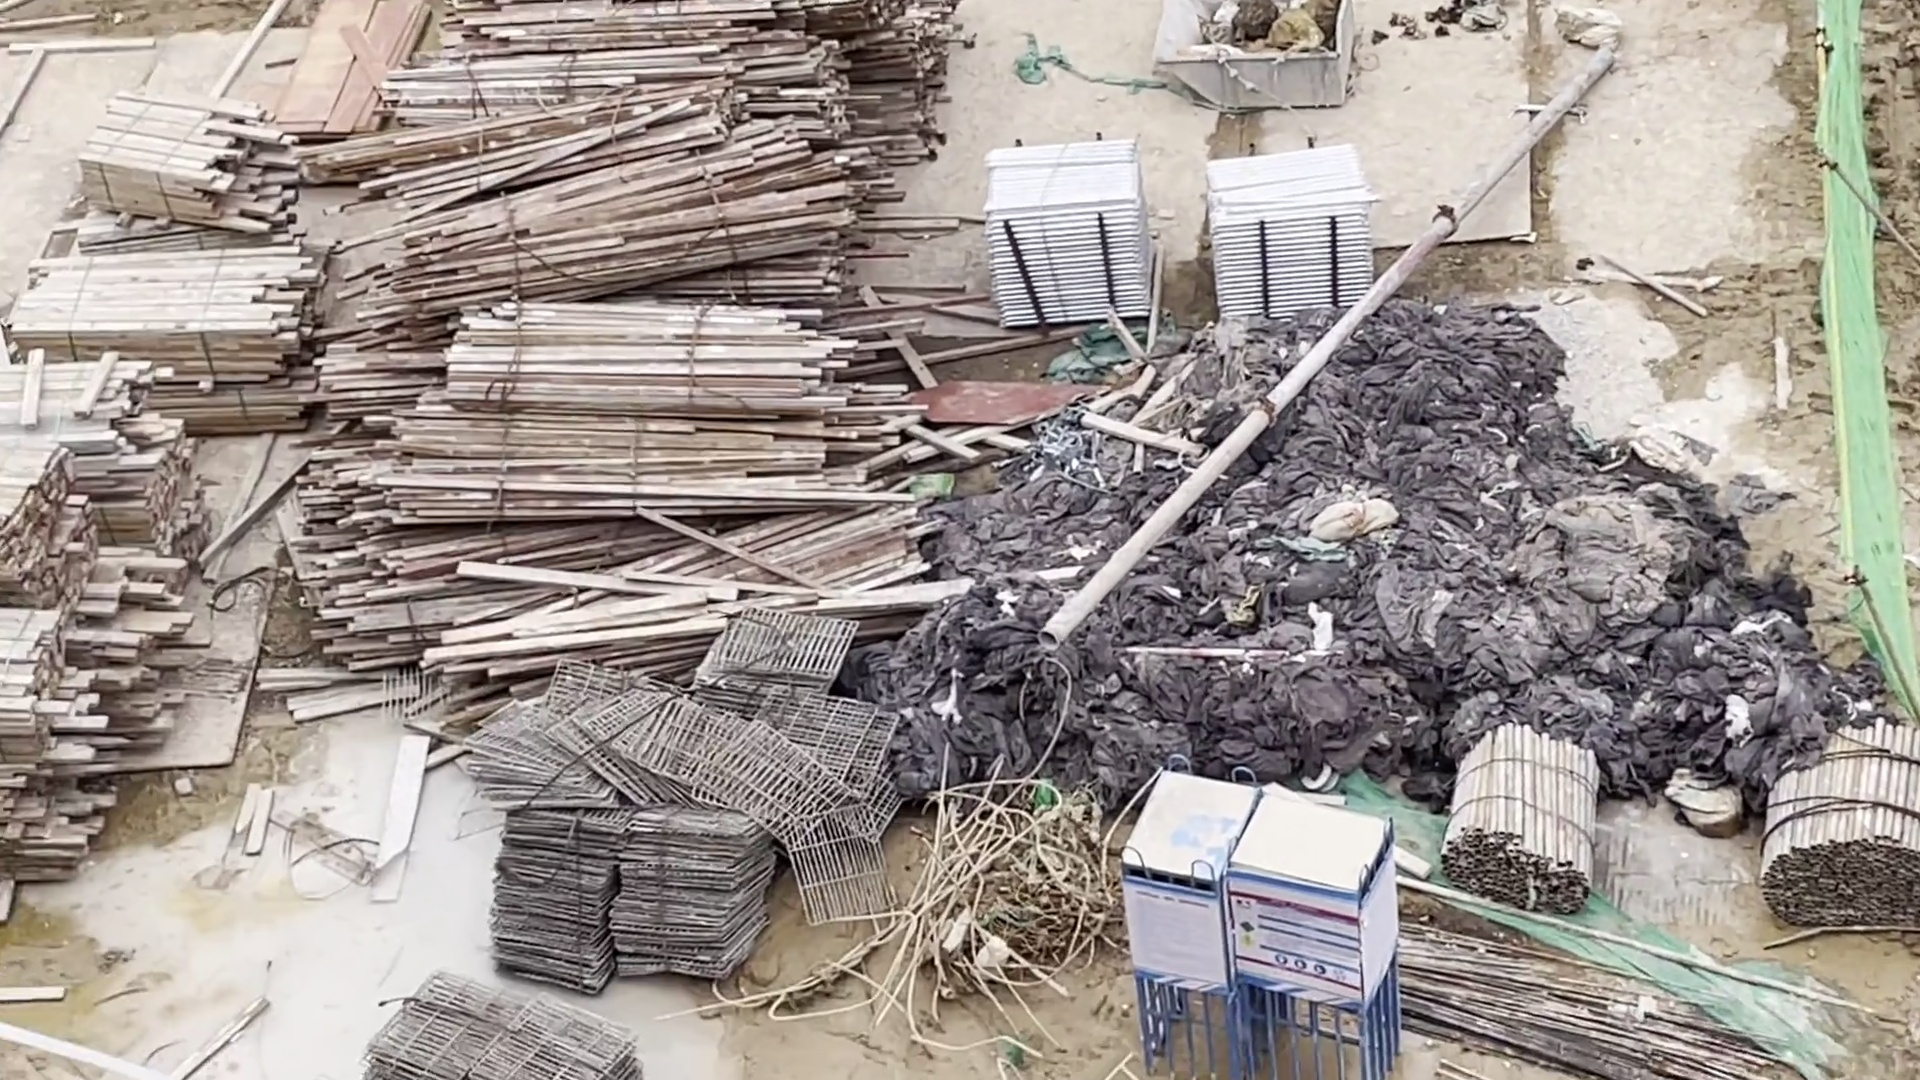hopper: (1175, 1, 1396, 131)
scaffold: (982, 145, 1396, 327)
wood: (334, 17, 905, 675), (1, 91, 327, 847)
